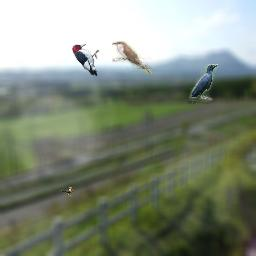Crow: (188, 64, 218, 104)
Cuckoo: (112, 41, 152, 74)
Sparrow: (61, 187, 74, 197)
Woodpecker: (72, 44, 100, 76)
